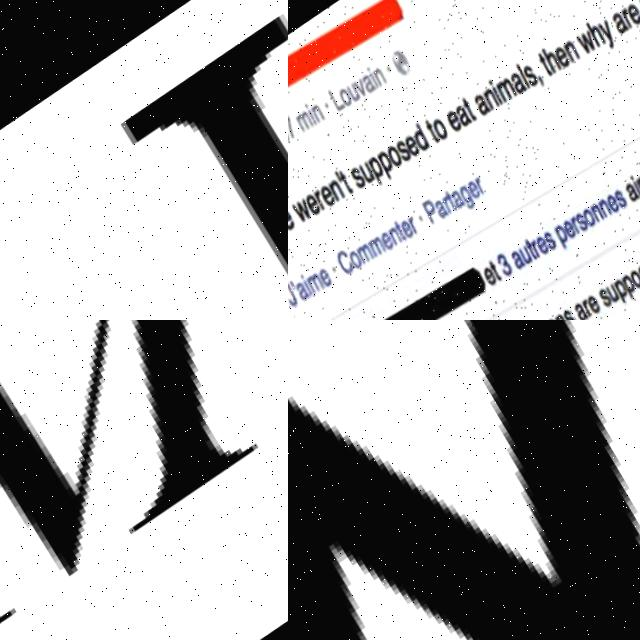3: (491, 252, 516, 286), (288, 116, 293, 146)
7: (288, 113, 301, 142)
J: (36, 0, 288, 320)
M: (0, 320, 288, 640)
N: (288, 320, 640, 640)
